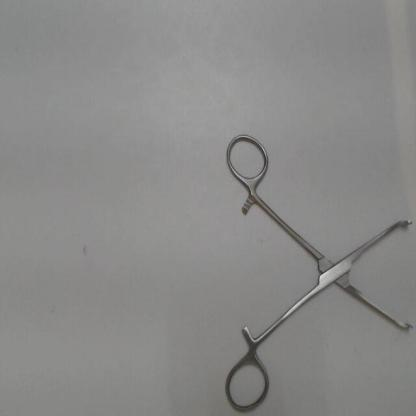Allis Tissue Forceps: (220, 129, 415, 414)
